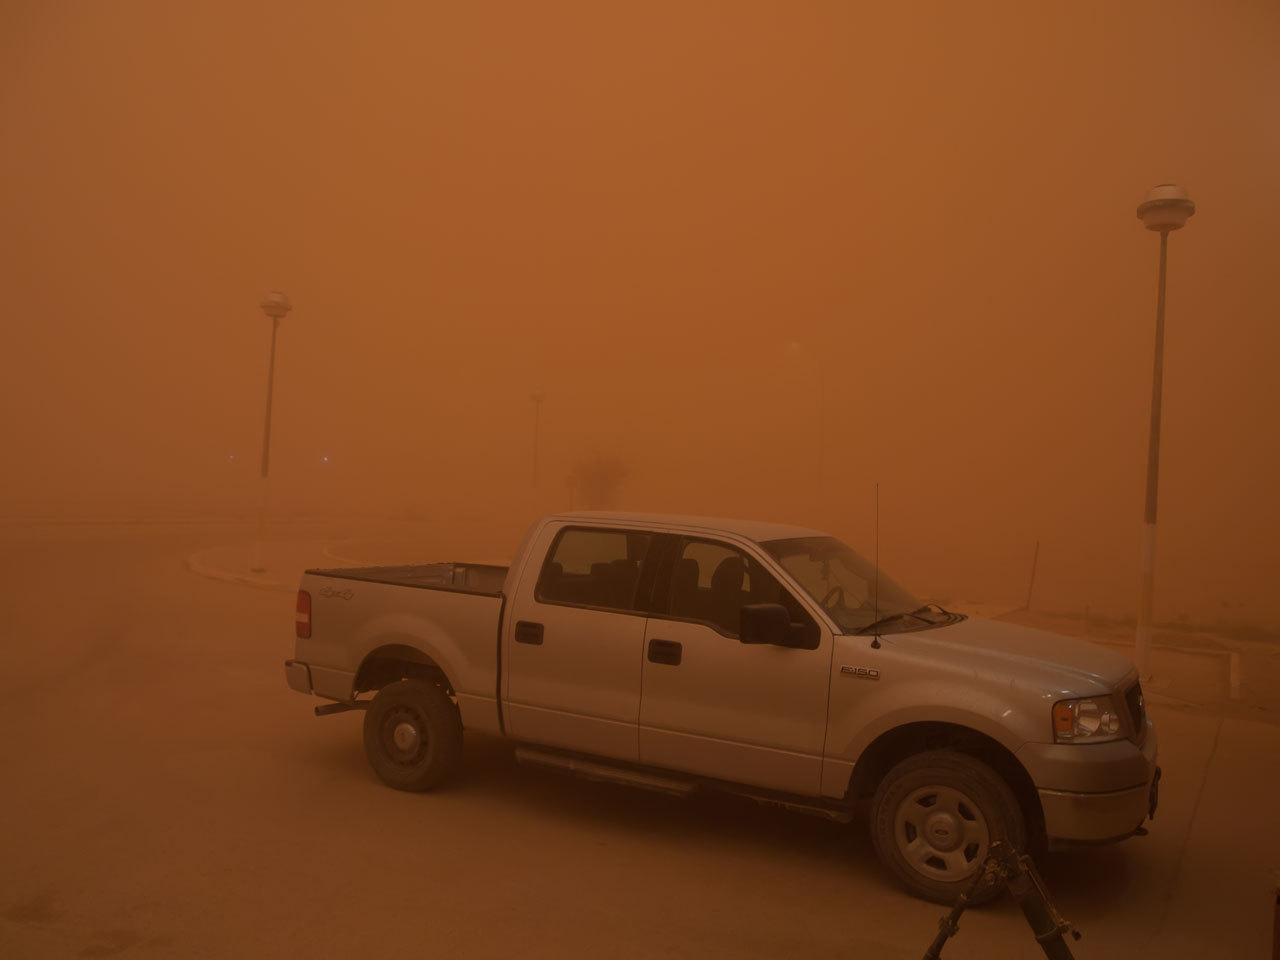truck: (287, 515, 1161, 889)
